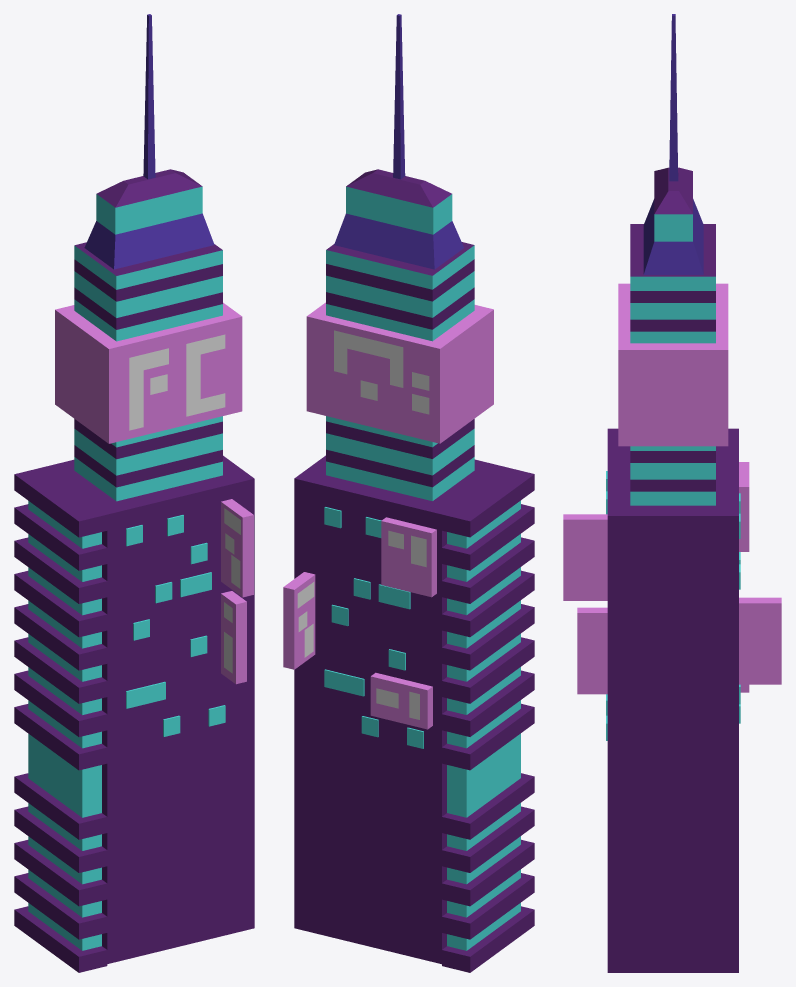
The model's file is Build_Base.fbx.
3 views of the same model, side by side, from view 1: azimuth 30°, elevation 25°; view 2: azimuth 150°, elevation 25°; view 3: azimuth 270°, elevation 25° (orthographic).
Parts seen in each view (by area): view 1: Build_Base; view 2: Build_Base; view 3: Build_Base.
Part boxes in pixels (<box>): Build_Base: <box>14,14,254,972</box>; Build_Base: <box>283,14,534,972</box>; Build_Base: <box>563,14,781,972</box>.
Size of the model in its own units: 275 by 1357 by 291.
